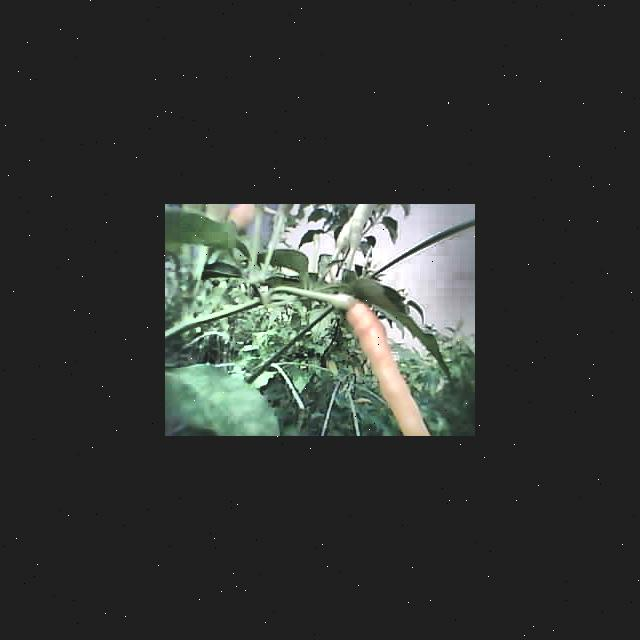Cabai: (348, 310, 417, 436)
